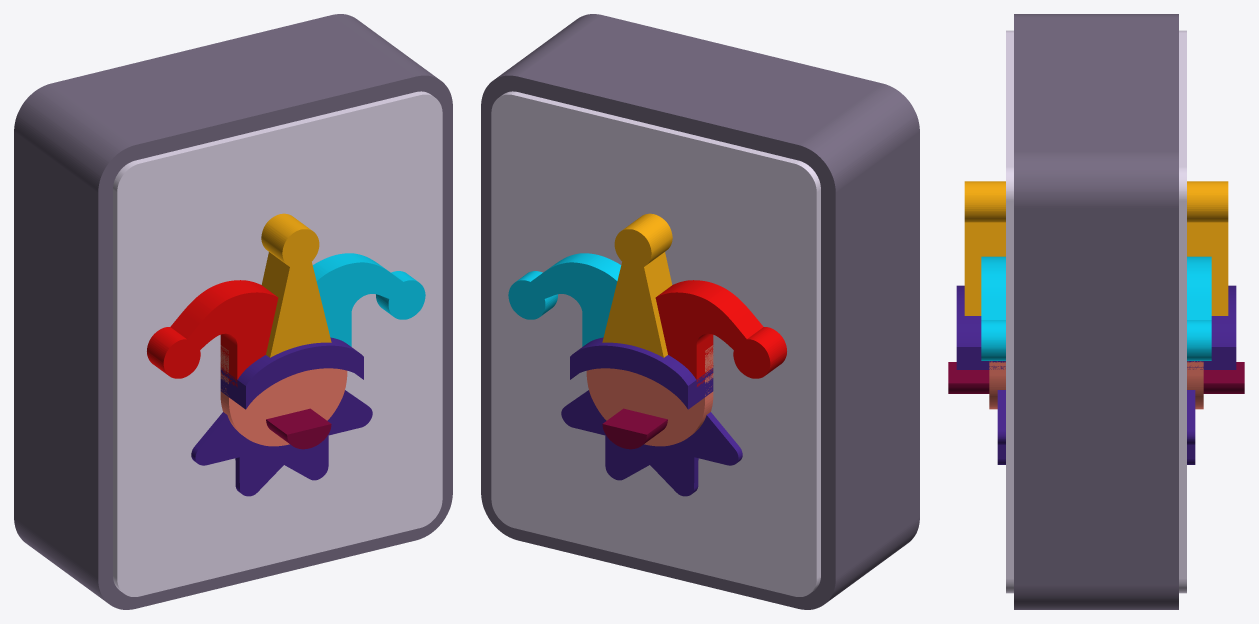
3 renders of one model, left to right at view 1: azimuth 30°, elevation 25°; view 2: azimuth 150°, elevation 25°; view 3: azimuth 270°, elevation 25°, orthographic. The views are drawn at different scales.
Parts seen in each view (by area): view 1: U+1F0CF_layer01_obj00, U+1F0CF_layer00_obj00, U+1F0CF_layer05_obj00, U+1F0CF_layer06_obj00, U+1F0CF_layer02_obj00, U+1F0CF_layer04_obj00, U+1F0CF_layer03_obj00, U+1F0CF_layer07_obj00, U+1F0CF_layer08_obj00; view 2: U+1F0CF_layer01_obj00, U+1F0CF_layer00_obj00, U+1F0CF_layer05_obj00, U+1F0CF_layer06_obj00, U+1F0CF_layer02_obj00, U+1F0CF_layer04_obj00, U+1F0CF_layer03_obj00, U+1F0CF_layer07_obj00, U+1F0CF_layer08_obj00; view 3: U+1F0CF_layer00_obj00, U+1F0CF_layer01_obj00, U+1F0CF_layer06_obj00, U+1F0CF_layer04_obj00, U+1F0CF_layer07_obj00, U+1F0CF_layer08_obj00, U+1F0CF_layer02_obj00, U+1F0CF_layer03_obj00.
Boxes of the visible parts, box(x1,y1,x2,y2) form: U+1F0CF_layer01_obj00: box(113, 91, 442, 596); U+1F0CF_layer00_obj00: box(14, 14, 452, 609); U+1F0CF_layer05_obj00: box(147, 280, 278, 387); U+1F0CF_layer06_obj00: box(261, 213, 331, 357); U+1F0CF_layer02_obj00: box(191, 390, 372, 496); U+1F0CF_layer04_obj00: box(312, 253, 425, 346); U+1F0CF_layer03_obj00: box(220, 345, 347, 446); U+1F0CF_layer07_obj00: box(220, 337, 363, 409); U+1F0CF_layer08_obj00: box(266, 408, 331, 449); U+1F0CF_layer01_obj00: box(491, 91, 820, 596); U+1F0CF_layer00_obj00: box(481, 14, 919, 609); U+1F0CF_layer05_obj00: box(655, 280, 786, 386); U+1F0CF_layer06_obj00: box(602, 213, 672, 357); U+1F0CF_layer02_obj00: box(561, 390, 742, 496); U+1F0CF_layer04_obj00: box(508, 253, 621, 346); U+1F0CF_layer03_obj00: box(586, 345, 713, 446); U+1F0CF_layer07_obj00: box(570, 337, 713, 409); U+1F0CF_layer08_obj00: box(602, 408, 667, 449); U+1F0CF_layer00_obj00: box(1014, 14, 1178, 609); U+1F0CF_layer01_obj00: box(1006, 30, 1186, 593); U+1F0CF_layer06_obj00: box(964, 181, 1228, 315); U+1F0CF_layer04_obj00: box(981, 256, 1211, 360); U+1F0CF_layer07_obj00: box(956, 285, 1236, 369); U+1F0CF_layer08_obj00: box(948, 362, 1244, 393); U+1F0CF_layer02_obj00: box(997, 390, 1195, 464); U+1F0CF_layer03_obj00: box(989, 361, 1203, 409).
Size of the model in its own units: 0.4868 by 0.6084 by 0.36.
